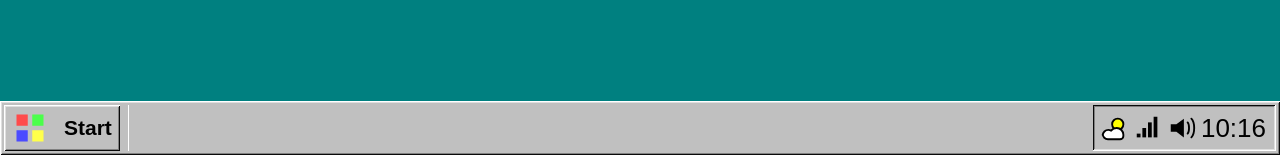
Taskbar Weather Caching › uses cached data if within TTL
Click the button with test id "sys-tray-weather" at (1114, 128), box [1099, 104, 1129, 152]
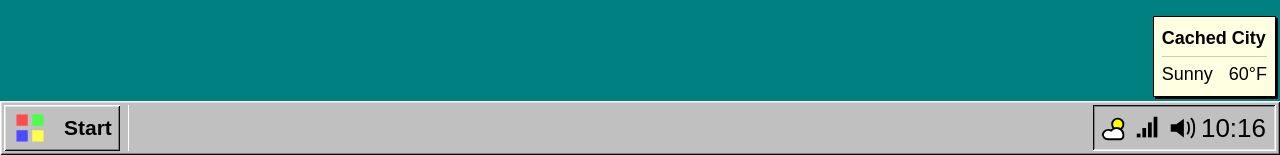
Check: the text "Cached City" is shown, box [1162, 25, 1267, 57]
Check: the text "60°F" is shown, box [1229, 61, 1267, 88]
